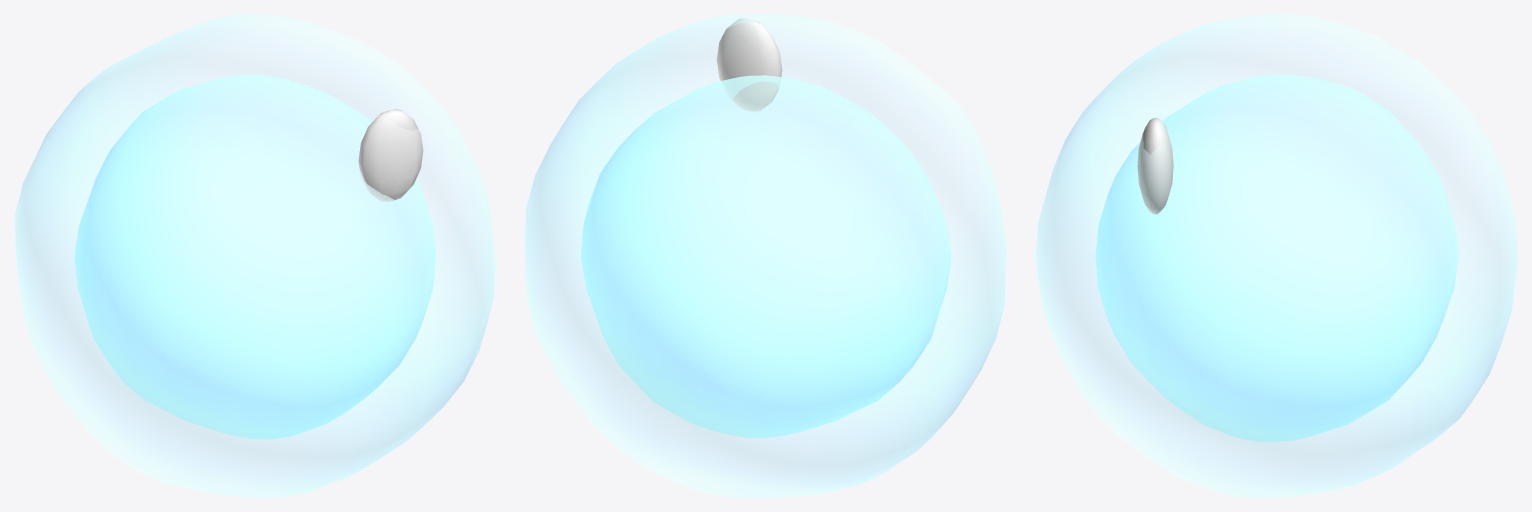
File: WaterBubble.fbx
3 views of the same model, side by side, from view 1: azimuth 30°, elevation 25°; view 2: azimuth 150°, elevation 25°; view 3: azimuth 270°, elevation 25° (orthographic).
Parts seen in each view (by area): view 1: Bubble_Shell, Bubble_Inner, Bubble_Highlight; view 2: Bubble_Shell, Bubble_Inner, Bubble_Highlight; view 3: Bubble_Shell, Bubble_Inner, Bubble_Highlight.
Part boxes in pixels (left/top/right/bottom): Bubble_Shell: left=14, top=14, right=495, bottom=497; Bubble_Inner: left=74, top=74, right=435, bottom=439; Bubble_Highlight: left=358, top=109, right=423, bottom=201; Bubble_Shell: left=524, top=14, right=1006, bottom=497; Bubble_Inner: left=581, top=75, right=951, bottom=437; Bubble_Highlight: left=716, top=19, right=782, bottom=111; Bubble_Shell: left=1035, top=14, right=1517, bottom=497; Bubble_Inner: left=1095, top=74, right=1458, bottom=442; Bubble_Highlight: left=1137, top=118, right=1173, bottom=214.
Bounding box in the file's own units: 119 × 119 × 120.
